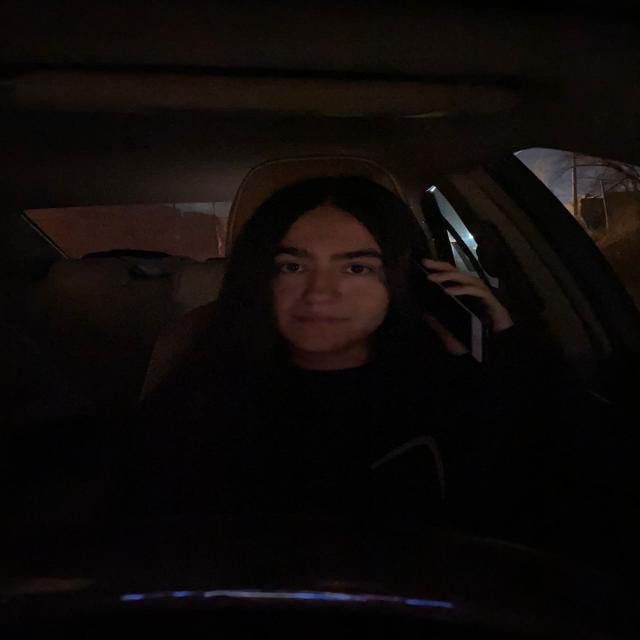phone: (404, 255, 491, 364)
